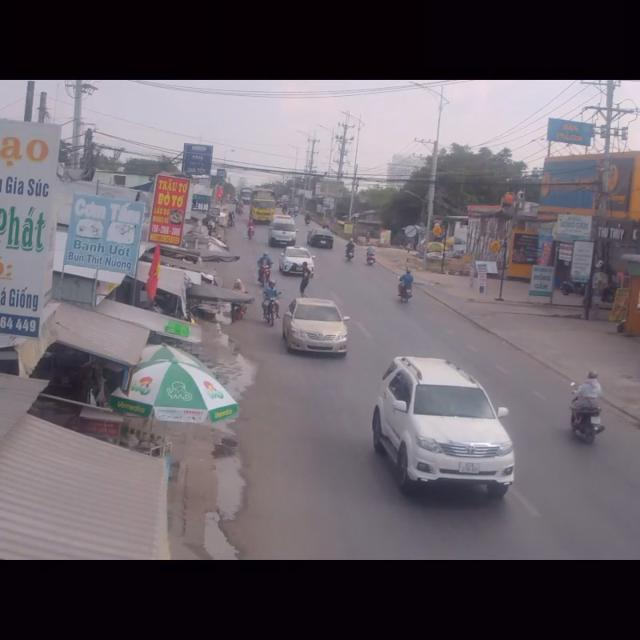car: (368, 353, 518, 505), (282, 298, 350, 366), (280, 242, 312, 280)
motorbike: (564, 373, 604, 456), (261, 285, 280, 327), (394, 265, 413, 305), (257, 254, 270, 286)
